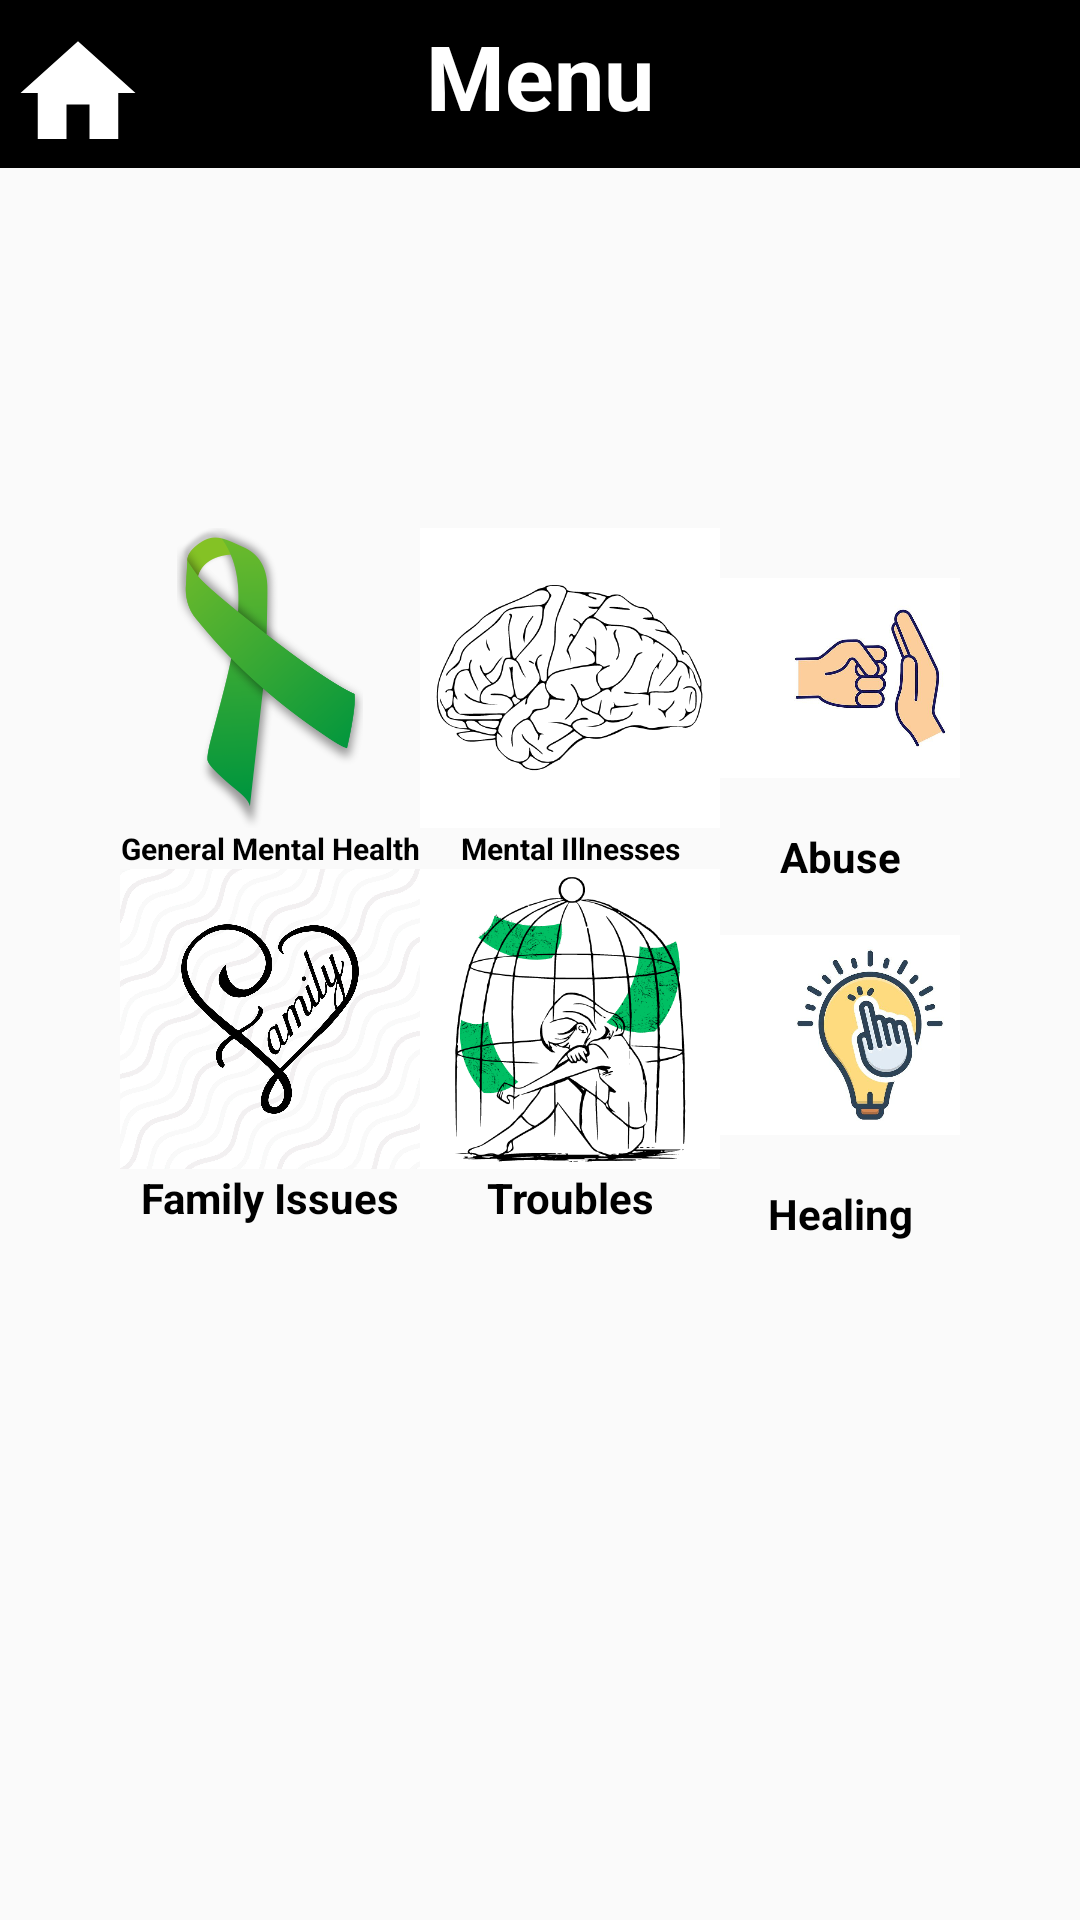

Point at icon controls on the screen. Image size 1080w x 1920h, points as point (x, y).
home: point (78, 90)
index brain: point (569, 677)
